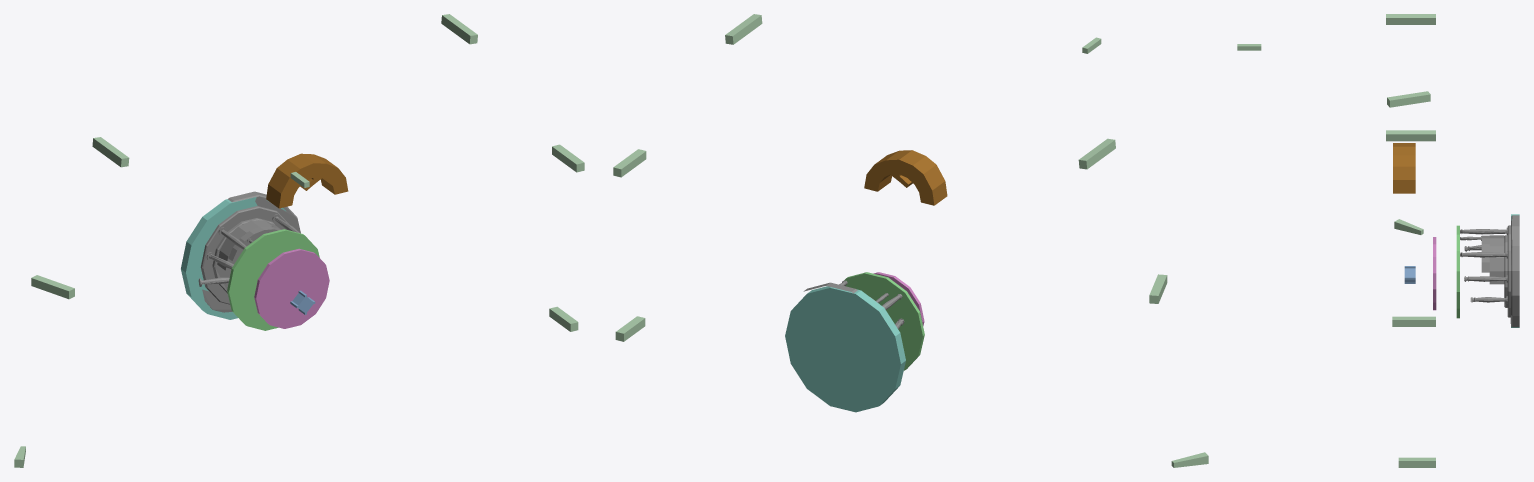
File: ruins_TempleRuin_01.glb
3 views of the same model, side by side, from view 1: azimuth 30°, elevation 25°; view 2: azimuth 150°, elevation 25°; view 3: azimuth 270°, elevation 25° (orthographic). The views are drawn at different scales.
Parts seen in each view (by area): view 1: geometry_0; view 2: geometry_0; view 3: geometry_0.
Boxes of the visible parts, x1,y1,x2,y2 form: geometry_0: (14,14,584,467); geometry_0: (613,14,1208,467); geometry_0: (1237,14,1519,467).
Size of the model in its own units: 10.27 by 5.68 by 5.05.
